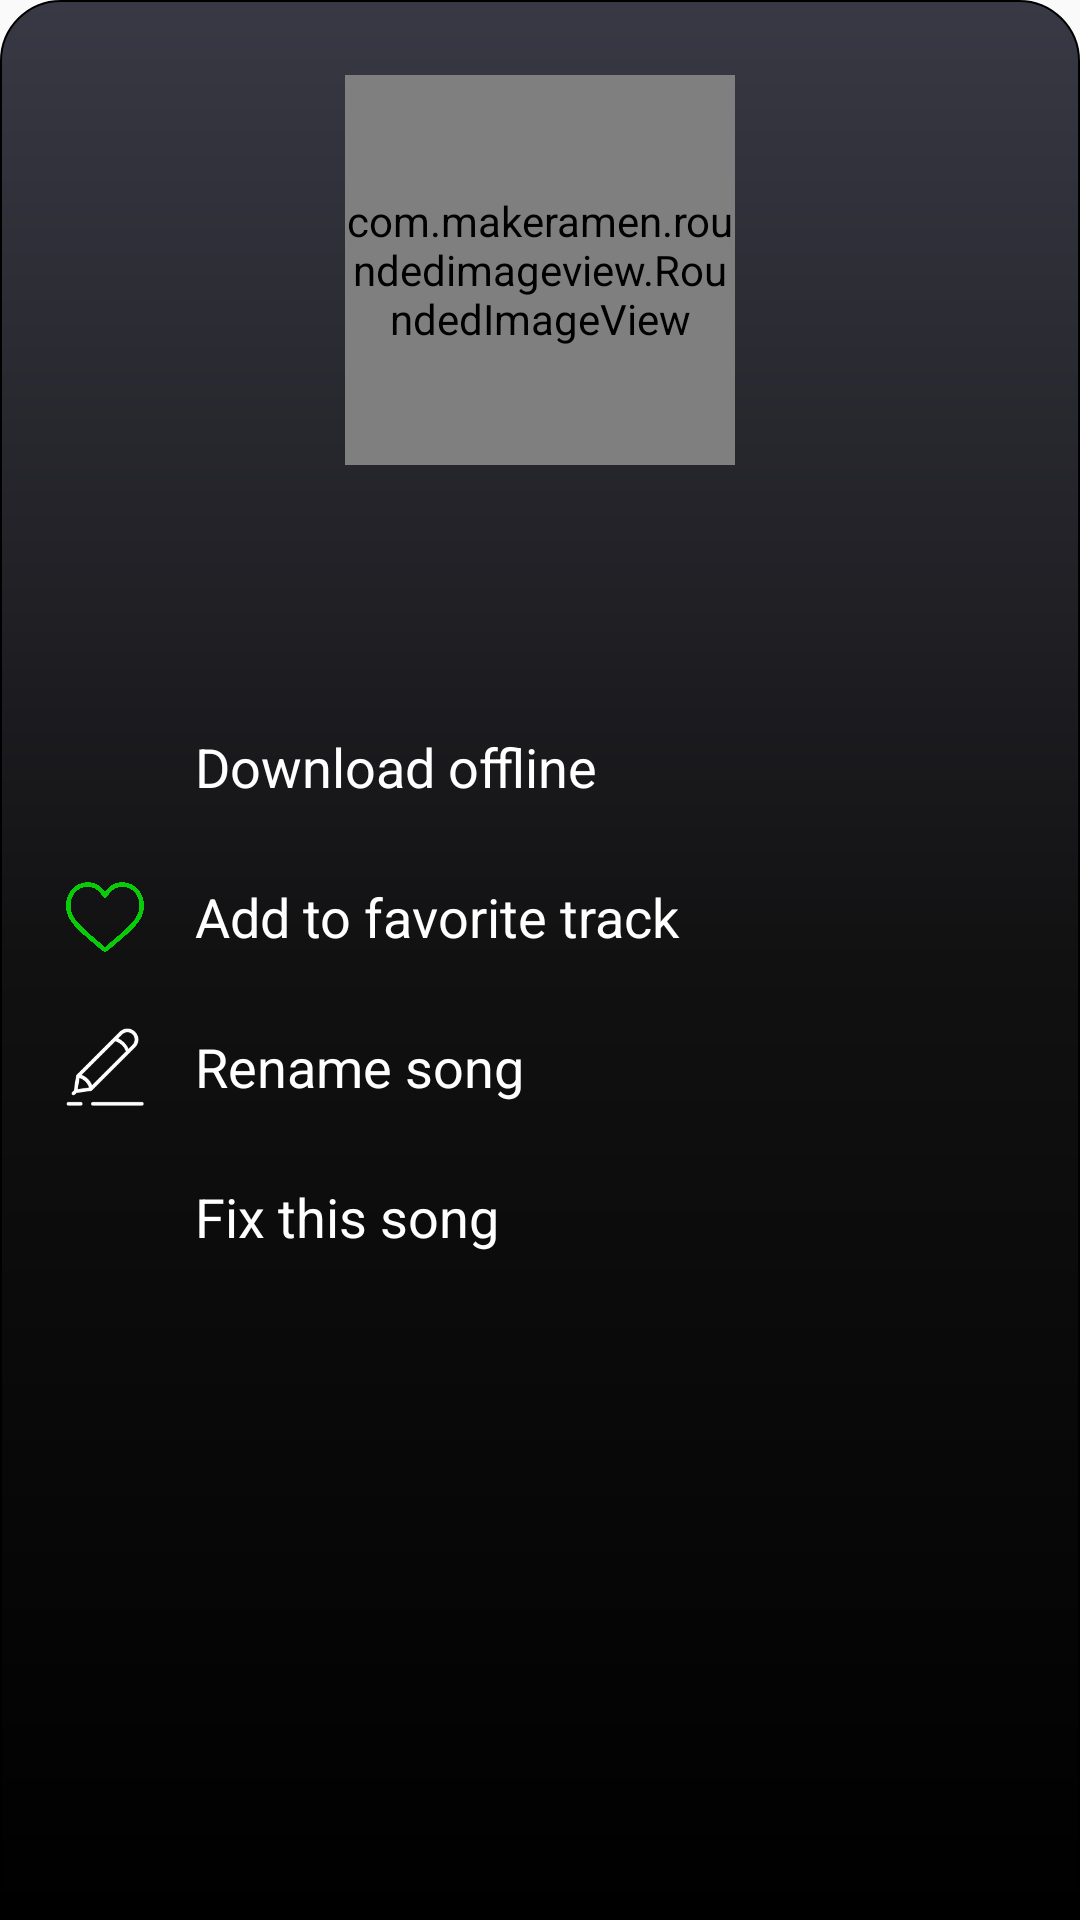

Icon bounding boxes for this 1080w x 1920h phone screenshot, format (x1, y1, x2, y2):
unfavorite heart: (66, 882, 144, 952)
